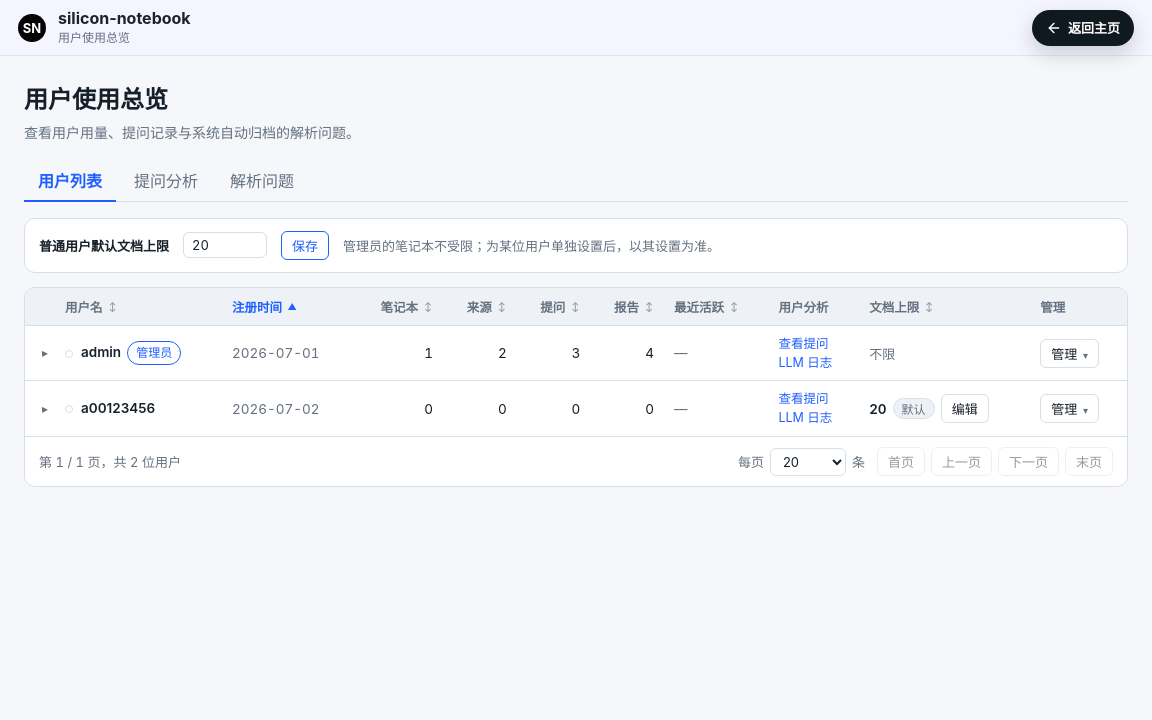
Scenario: 管理员可为某用户单独设置文档上限,行内标记转为自定义
The image size is (1152, 720).
Expected: the text "a00123456" is shown, [81,400,155,416]
Expected: the text "默认" is shown, [893,398,935,419]
Click the button "编辑" at coordinates (965, 409), box [941,394,989,423]
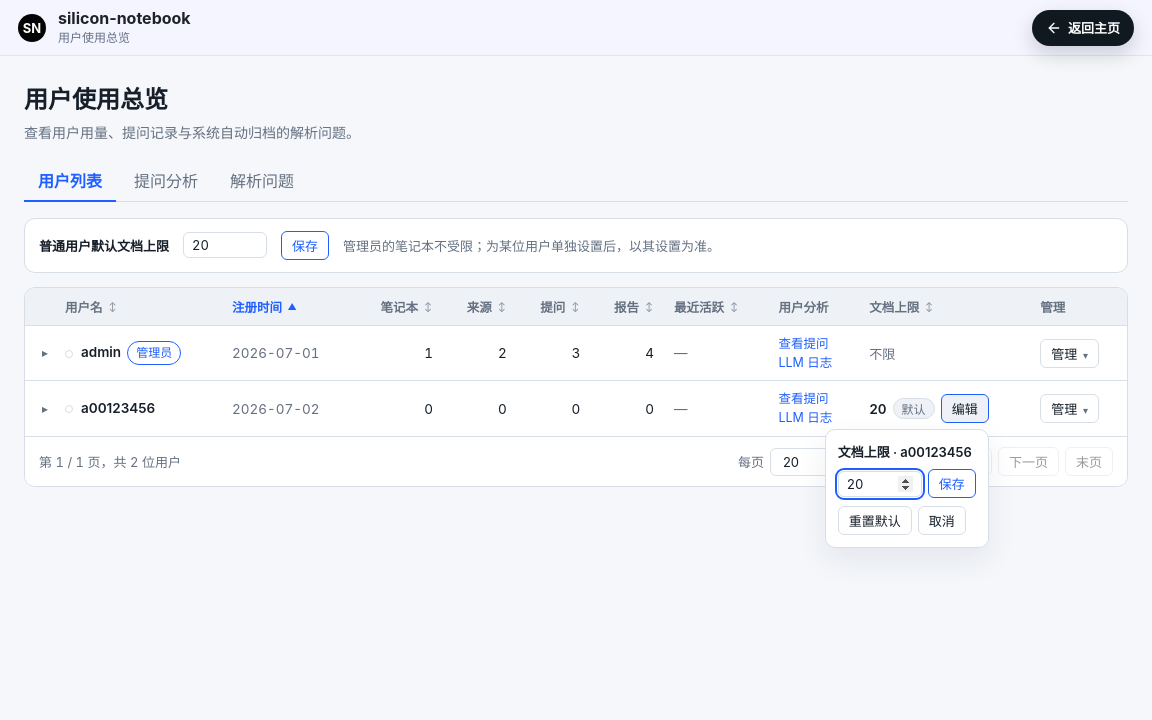
Replace the text in the number field named "a00123456 的文档上限" with "50" at coordinates (880, 484), box [838,471,922,497]
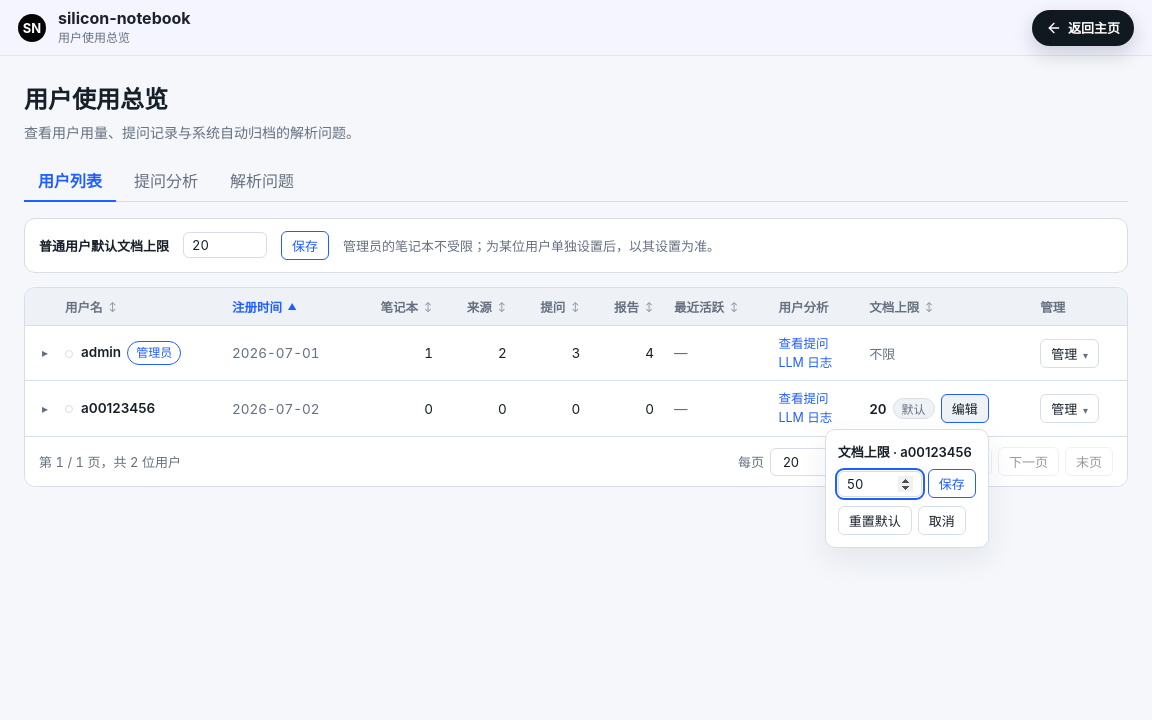
Click the button "保存" below "文档上限 ·" at coordinates (952, 484), box [928,469,976,498]
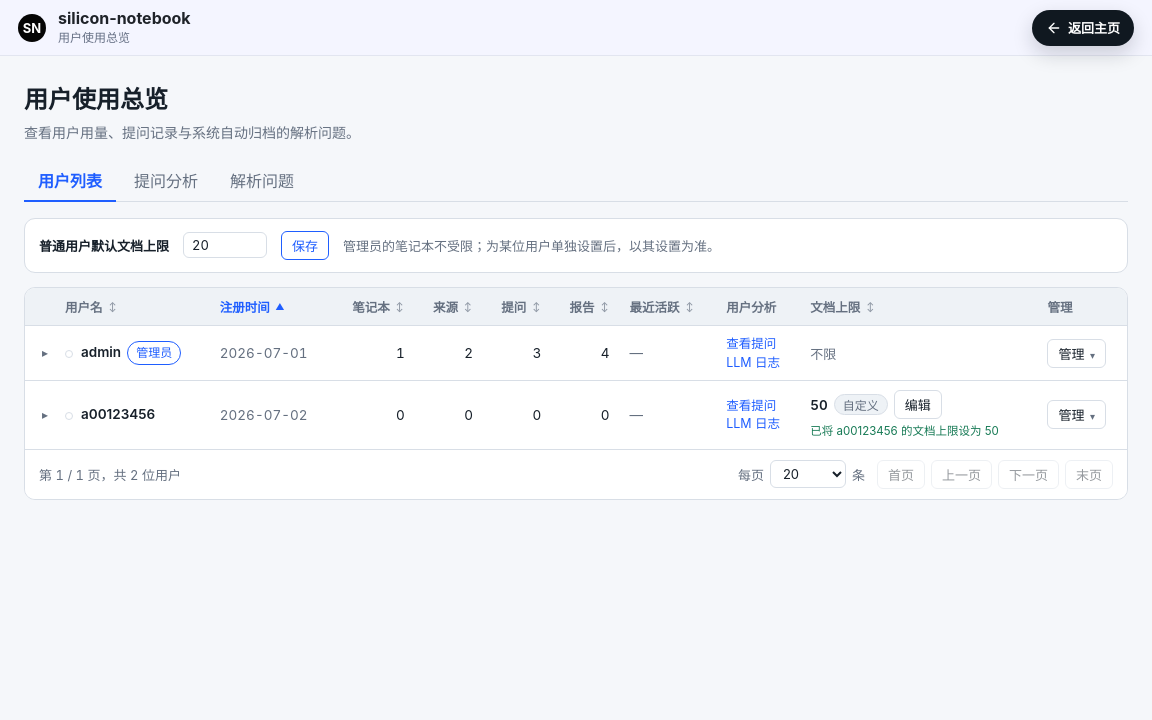
Now the text "已将 a00123456 的文档上限设为 50" is shown, box [810,423,999,440]
Now the text "50" is shown, box [810,397,828,413]
Now the text "自定义" is shown, box [834,394,888,415]
